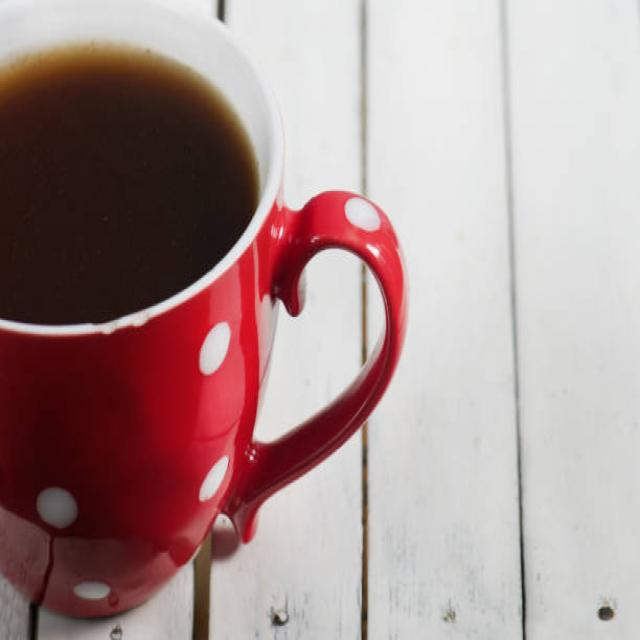Red_cup: (0, 0, 407, 616)
